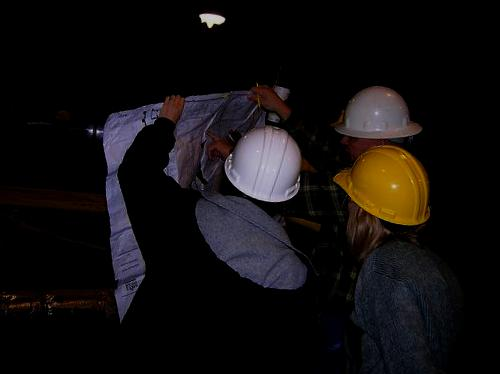person: (207, 66, 429, 374), (111, 95, 346, 374), (304, 144, 500, 374)
